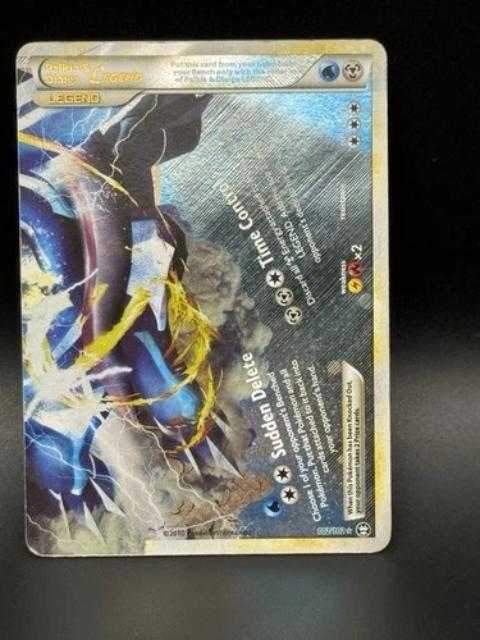Card: (14, 36, 395, 562)
Name: (34, 56, 150, 89)
